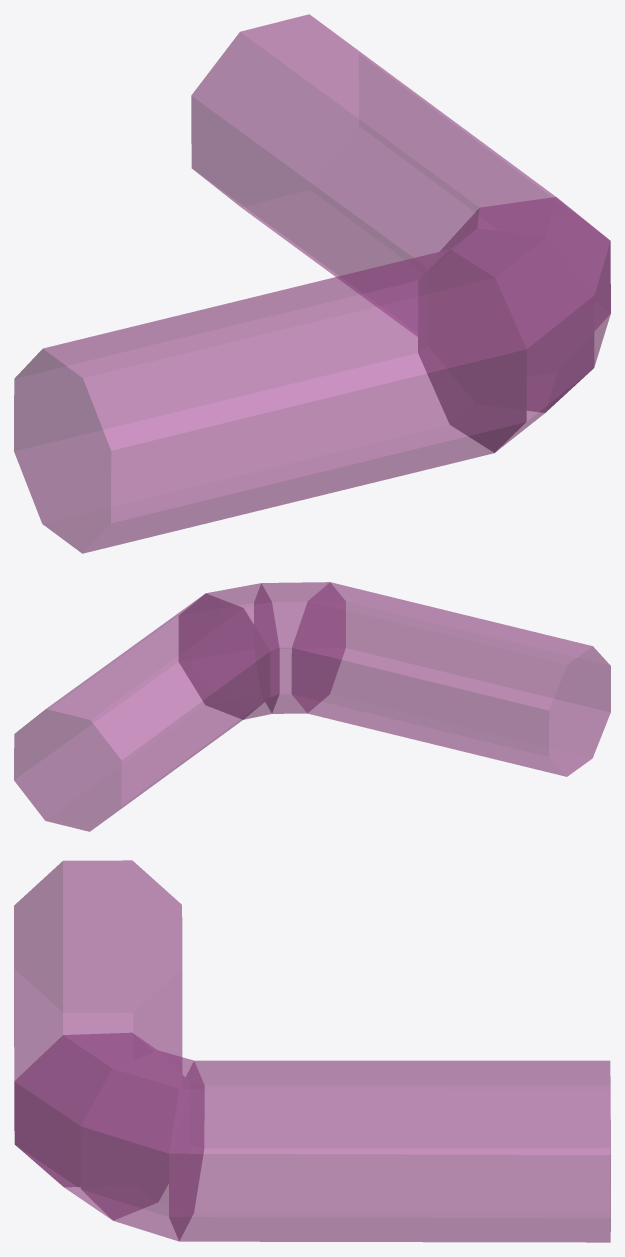
The model's file is SM_Bld_Pipe_Small_Bend_01_Collision.fbx.
3 renders of one model, top to bottom at view 1: azimuth 30°, elevation 25°; view 2: azimuth 150°, elevation 25°; view 3: azimuth 270°, elevation 25°, orthographic. The views are drawn at different scales.
Visible parts, largest first — view 1: SM_Bld_Pipe_Small_Bend_01_Collision; view 2: SM_Bld_Pipe_Small_Bend_01_Collision; view 3: SM_Bld_Pipe_Small_Bend_01_Collision.
Part boxes in pixels (left/top/right/bottom): SM_Bld_Pipe_Small_Bend_01_Collision: left=14, top=14, right=610, bottom=553; SM_Bld_Pipe_Small_Bend_01_Collision: left=14, top=582, right=610, bottom=831; SM_Bld_Pipe_Small_Bend_01_Collision: left=14, top=860, right=610, bottom=1242.
Bounding box in the file's own units: 179 × 50.92 × 180.
